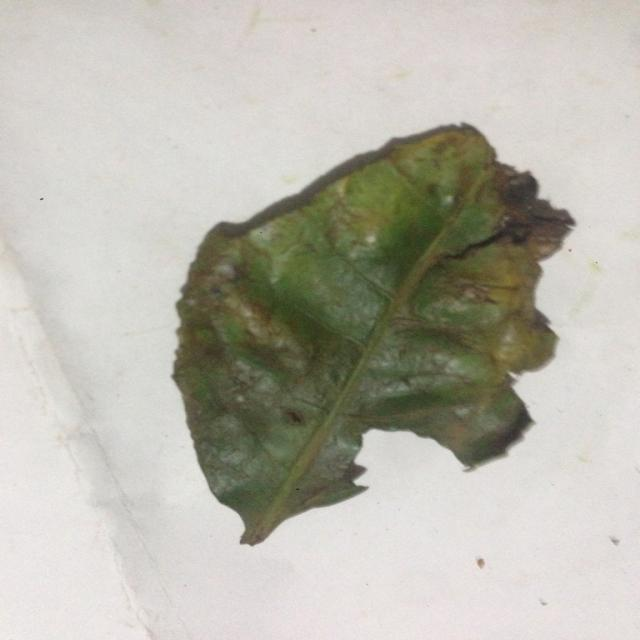Red Leaf Spot: (156, 119, 578, 558)
